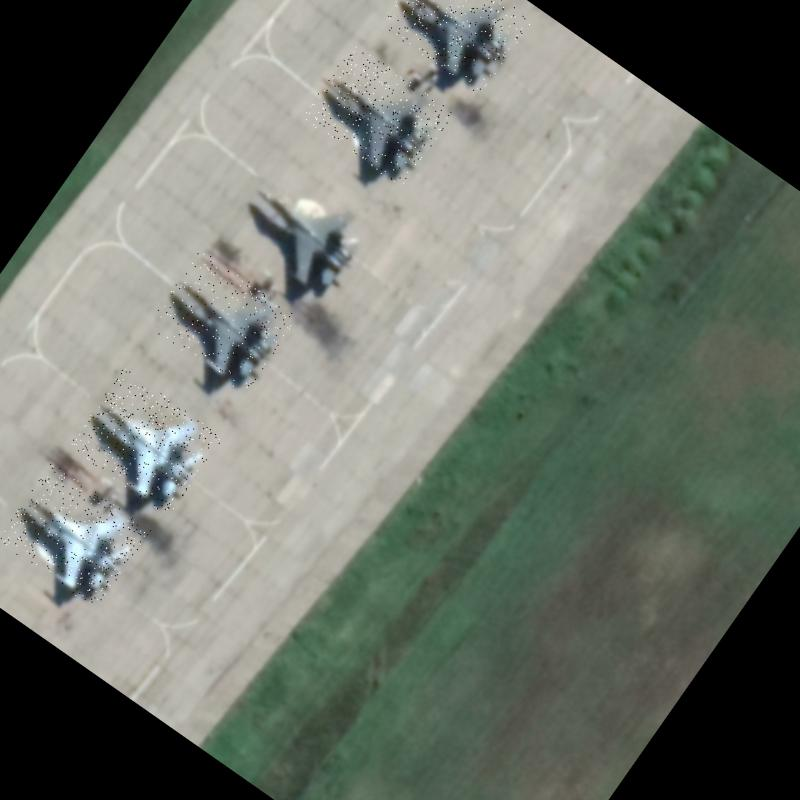A1: (68, 368, 224, 517), (146, 248, 300, 395), (0, 461, 151, 610), (226, 158, 379, 304), (300, 43, 454, 188), (377, 0, 532, 96)
